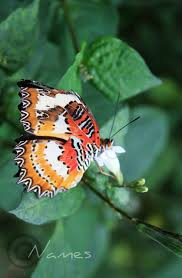Butterfly: (16, 76, 116, 198)
